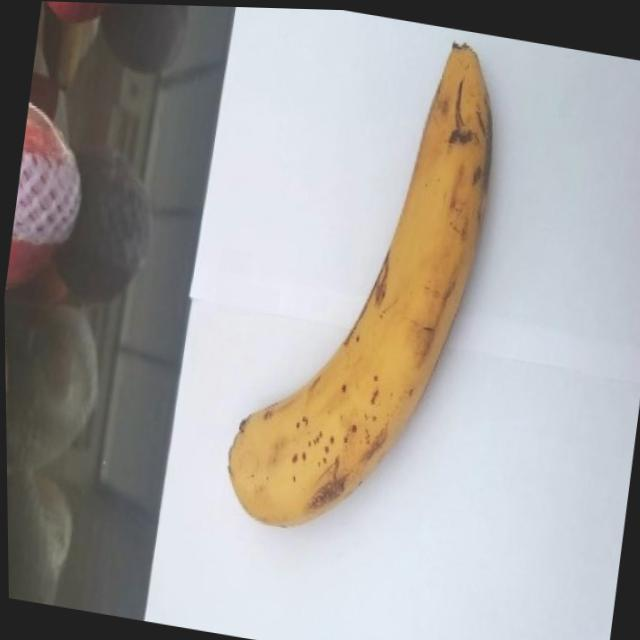Banana: (209, 6, 517, 559)
